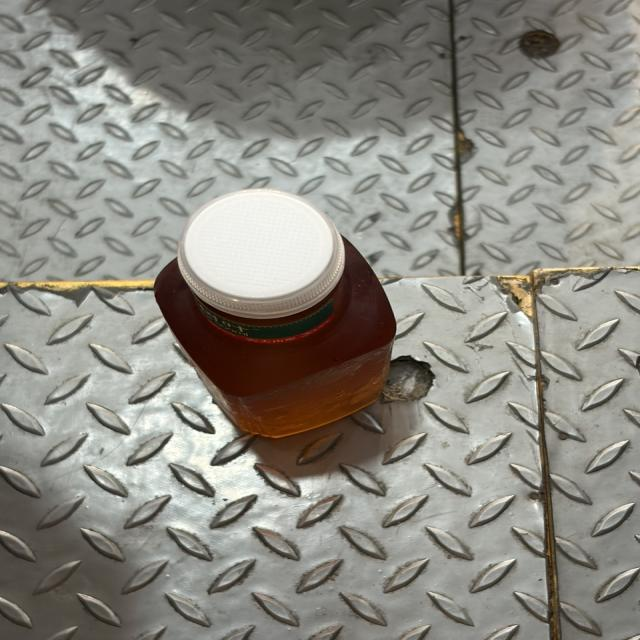high: (155, 189, 395, 436)
